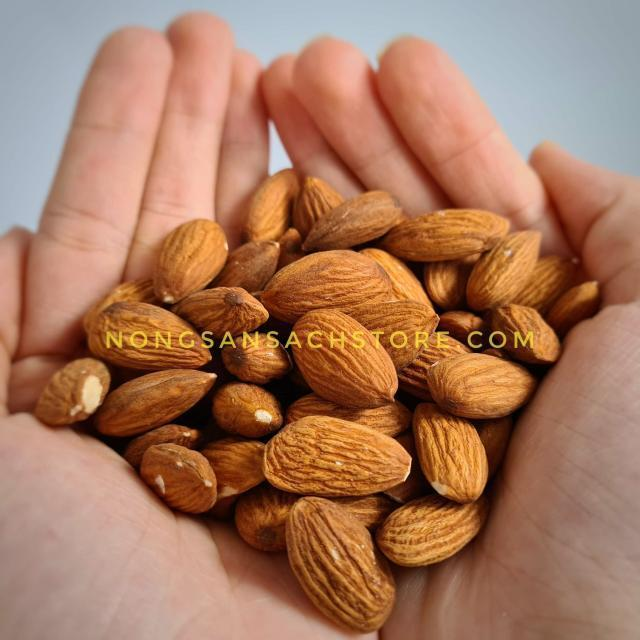almond: (285, 492, 400, 635), (262, 413, 413, 497), (260, 250, 403, 335), (287, 307, 402, 405), (94, 363, 219, 440), (82, 300, 213, 370), (407, 397, 488, 502), (147, 215, 232, 307), (380, 493, 487, 565), (462, 224, 547, 314), (385, 207, 510, 263), (427, 357, 542, 415), (298, 194, 405, 254), (140, 447, 215, 517)
